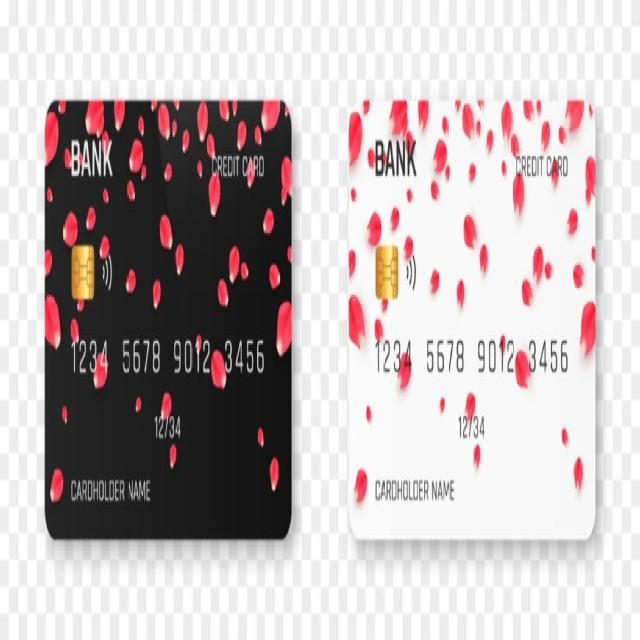payment_card: (345, 97, 598, 541), (42, 98, 293, 540)
